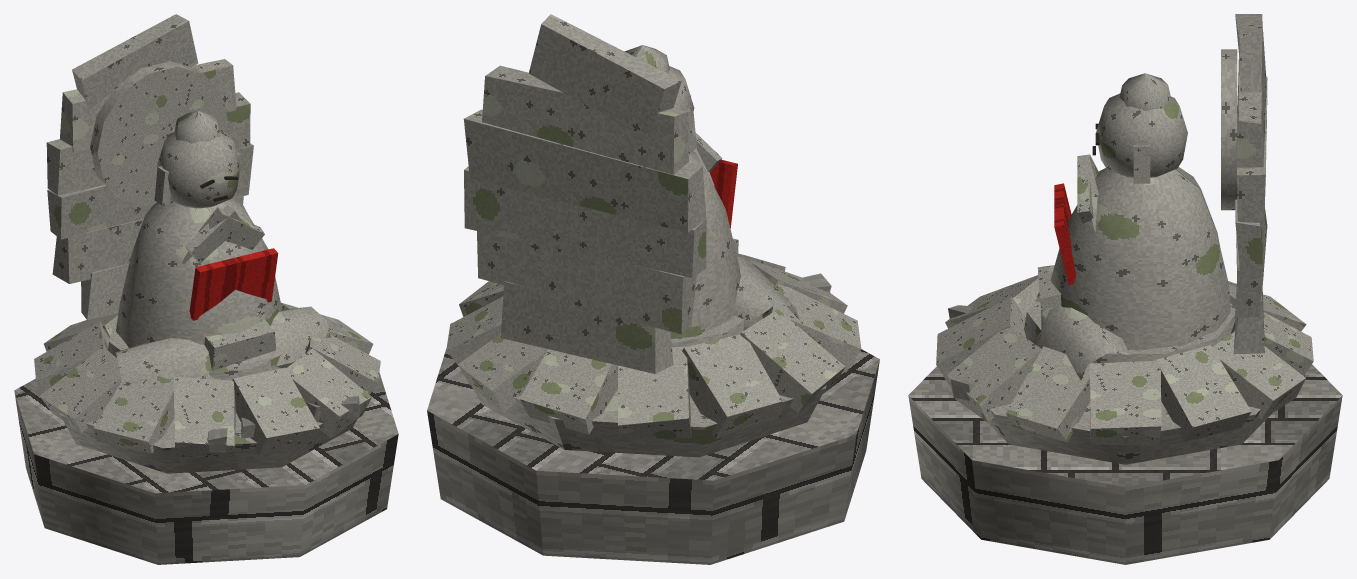
Rendered from prop_buddha.glb.
The picture shows the model from 3 angles, left to right: view 1: azimuth 30°, elevation 25°; view 2: azimuth 150°, elevation 25°; view 3: azimuth 270°, elevation 25°; orthographic projection. The views are drawn at different scales.
Parts seen in each view (by area): view 1: prop_buddha; view 2: prop_buddha; view 3: prop_buddha.
Boxes of the visible parts, <box> form: prop_buddha: <box>14,14,398,564</box>; prop_buddha: <box>427,14,879,564</box>; prop_buddha: <box>908,14,1342,564</box>.
Bounding box in the file's own units: 1.32 × 1.54 × 1.32.
5 materials, 5 textured.
